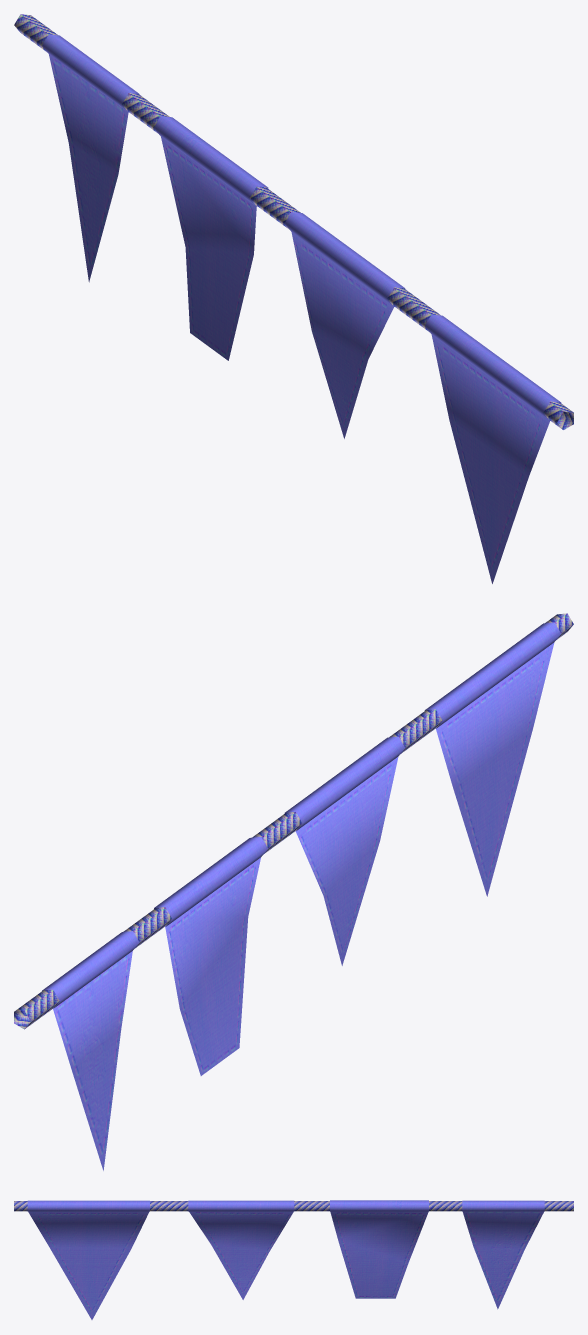
Rendered from SM_rope_flags_01.fbx.
The picture shows the model from 3 angles, top to bottom: view 1: azimuth 30°, elevation 25°; view 2: azimuth 150°, elevation 25°; view 3: azimuth 270°, elevation 25°; orthographic projection. The views are drawn at different scales.
Parts seen in each view (by area): view 1: SM_rope_flags_01_LOD0; view 2: SM_rope_flags_01_LOD0; view 3: SM_rope_flags_01_LOD0.
Part boxes in pixels (x1,y1,x2,y2): SM_rope_flags_01_LOD0: (14,14,573,583); SM_rope_flags_01_LOD0: (14,613,573,1170); SM_rope_flags_01_LOD0: (14,1200,573,1319).
Bounding box in the file's own units: 3.94 × 200 × 46.87.
Materials: 2 (2 with a texture image).
